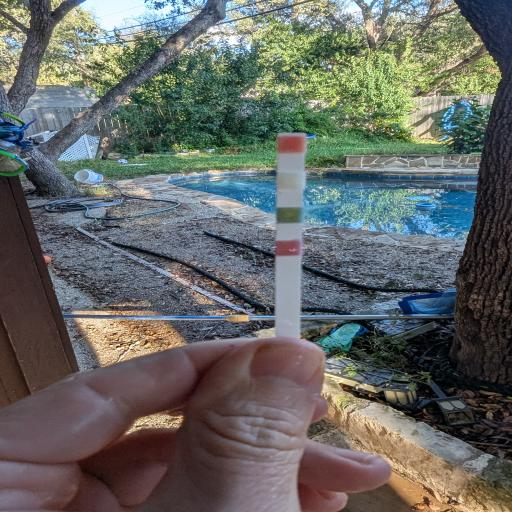strip: (274, 133, 306, 339)
